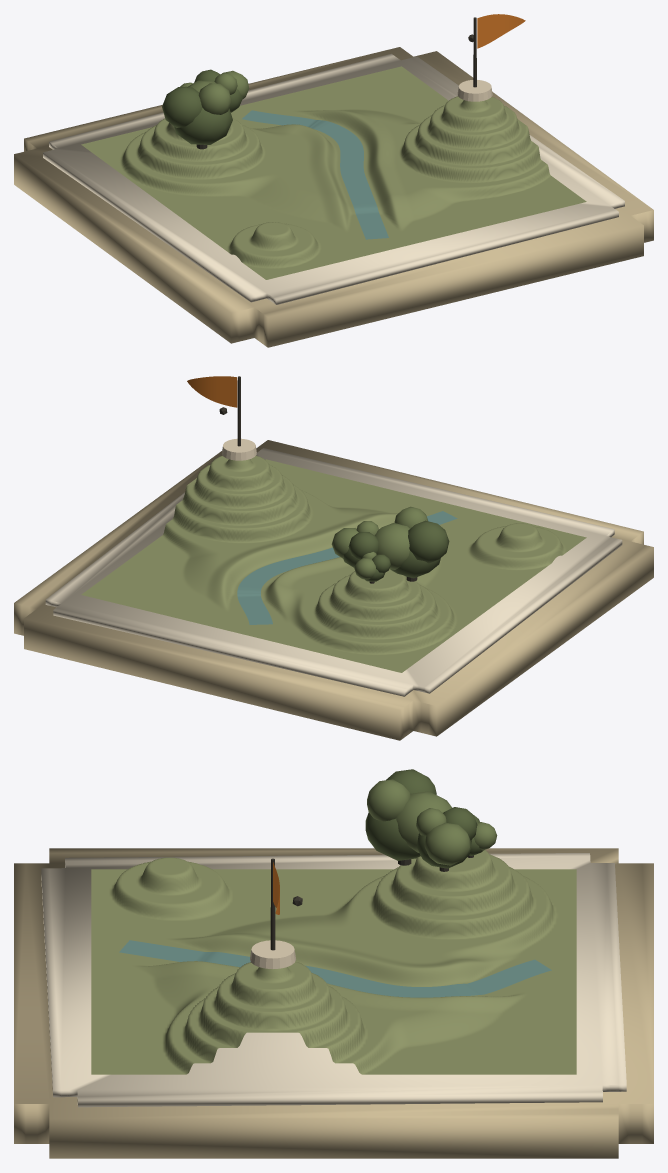
The model's file is geoHome.glb.
3 views of the same model, one above another, from view 1: azimuth 30°, elevation 25°; view 2: azimuth 150°, elevation 25°; view 3: azimuth 270°, elevation 25° (orthographic). The views are drawn at different scales.
Visible parts, largest first — view 1: Terrain; view 2: Terrain; view 3: Terrain.
Boxes of the visible parts, box(x1,y1,x2,y2) form: Terrain: box(14, 14, 653, 347); Terrain: box(14, 376, 653, 740); Terrain: box(14, 769, 653, 1158).
Size of the model in its own units: 2.9 by 1.2 by 2.9.
